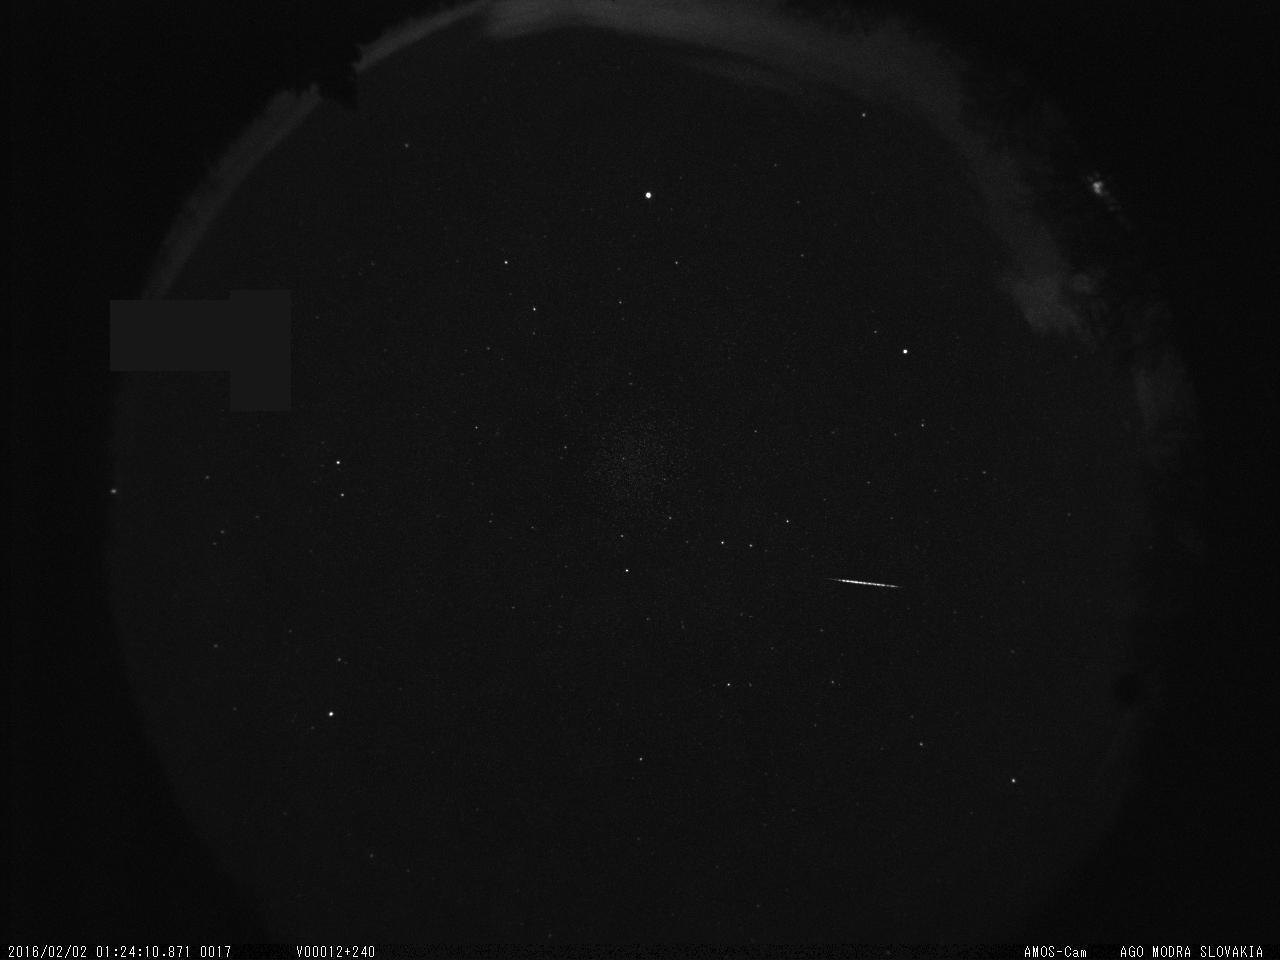meteor: (819, 557, 919, 615)
